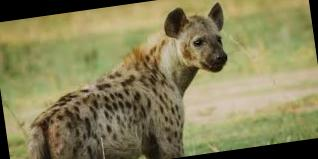hyenas: (1, 1, 243, 159)
